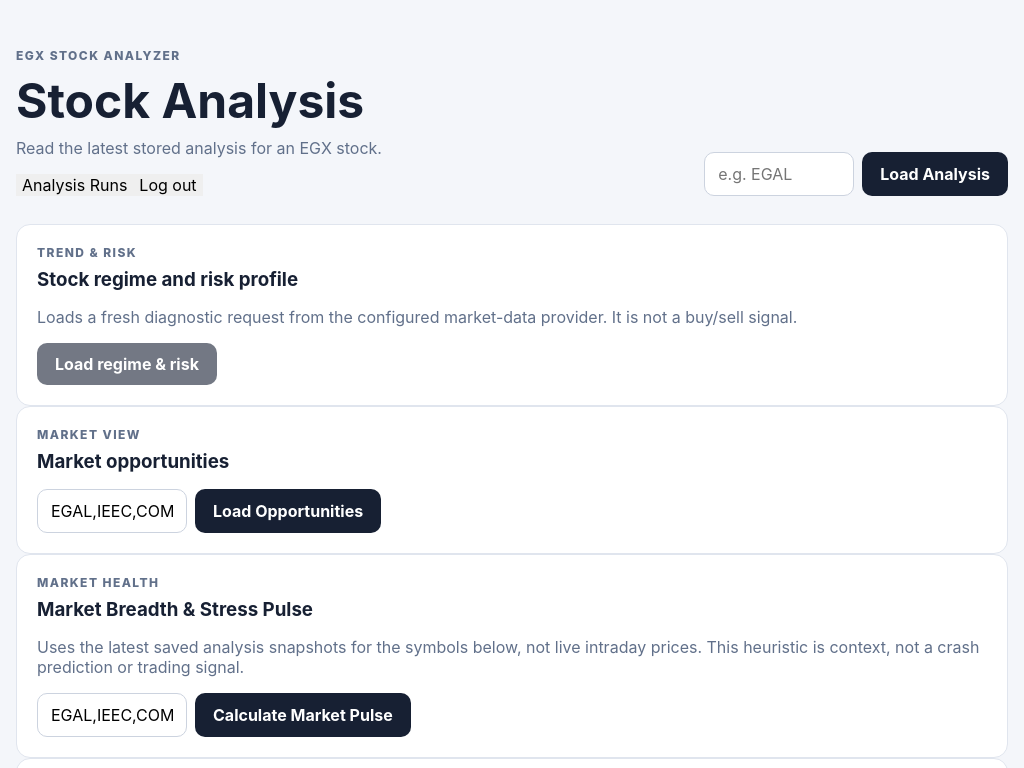
Test case: Frontend authentication › logs out by clearing the session
Expected: the field named "Stock Symbol" is shown, [704,152,854,196]
What coordinates should you click on to do the following:
click the button "Log out"
I would click on:
 (168, 185)
Its box is [133,174,203,196].
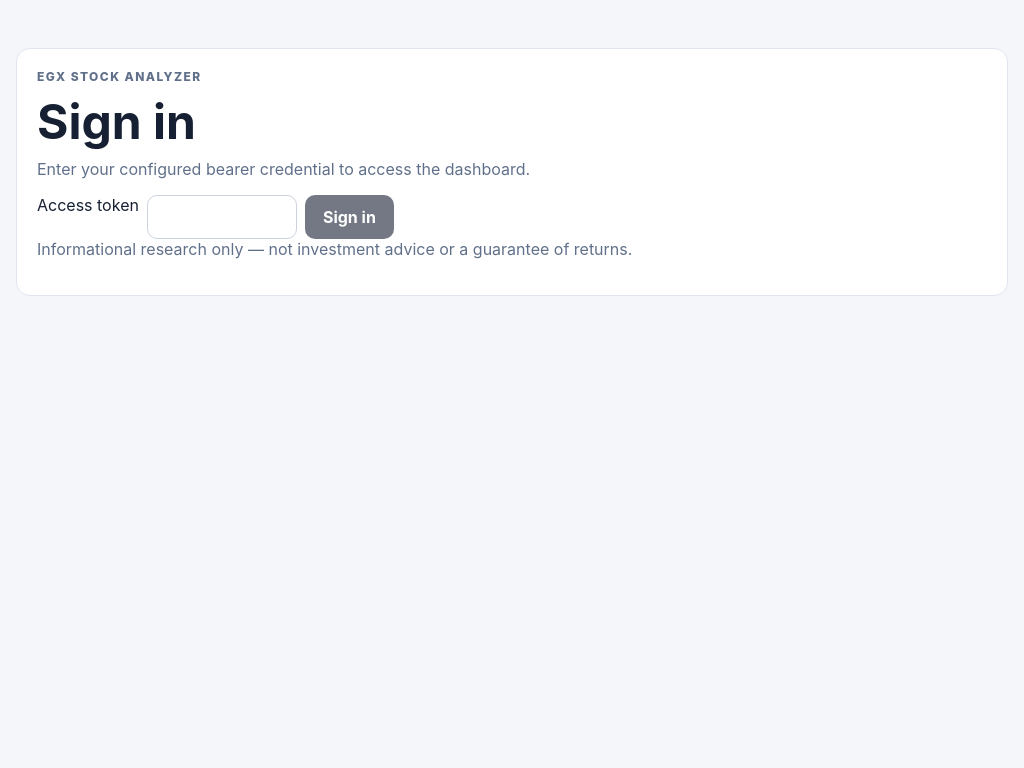
Expected: the heading "Sign in" is shown, [37,92,196,151]
